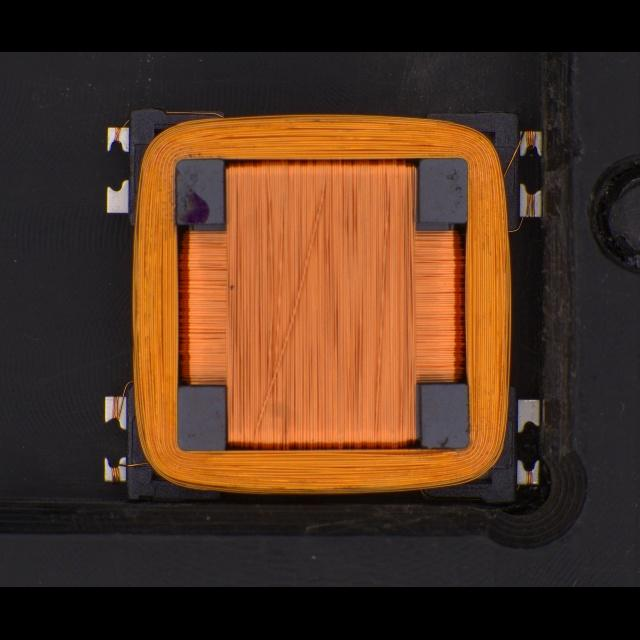Winding_Z: (120, 109, 517, 500)
